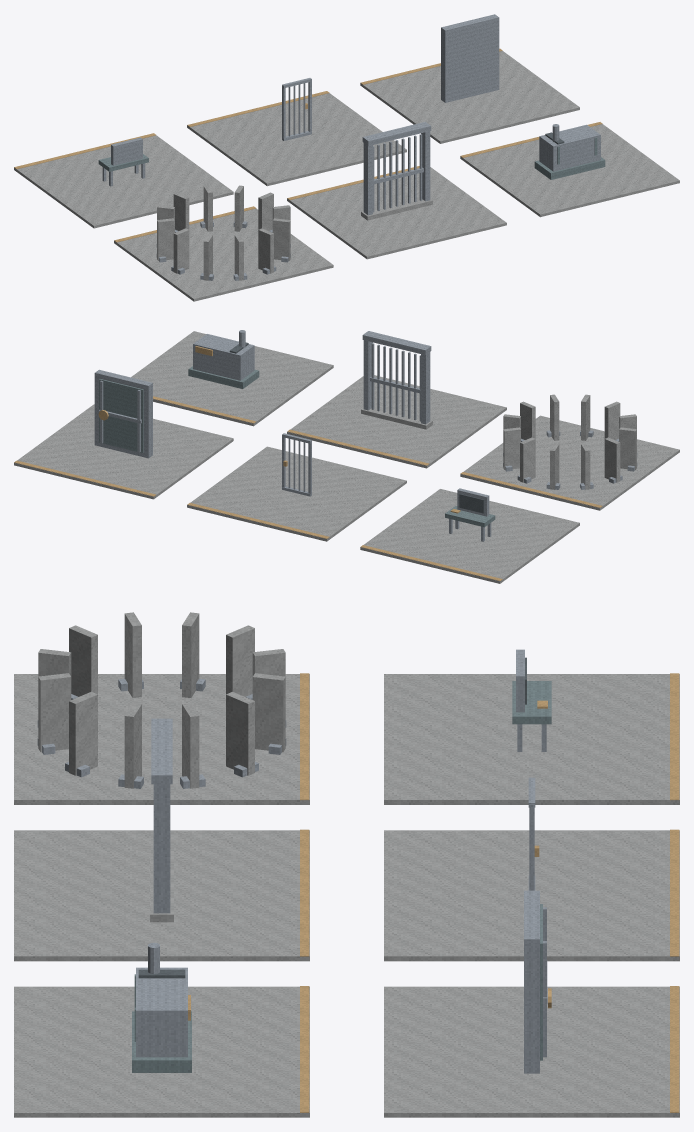
File: level_blockout_kit_wld_18_p01.glb
The picture shows the model from 3 angles, top to bottom: view 1: azimuth 30°, elevation 25°; view 2: azimuth 150°, elevation 25°; view 3: azimuth 270°, elevation 25°; orthographic projection. The views are drawn at different scales.
Parts seen in each view (by area): view 1: level_blockout_kit_wld_18_p01; view 2: level_blockout_kit_wld_18_p01; view 3: level_blockout_kit_wld_18_p01.
Boxes of the visible parts, <box> form: level_blockout_kit_wld_18_p01: <box>14,14,679,301</box>; level_blockout_kit_wld_18_p01: <box>14,330,679,583</box>; level_blockout_kit_wld_18_p01: <box>14,612,679,1117</box>.
Bounding box in the file's own units: 19.65 × 3.16 × 12.6.
5 materials, 5 textured.
